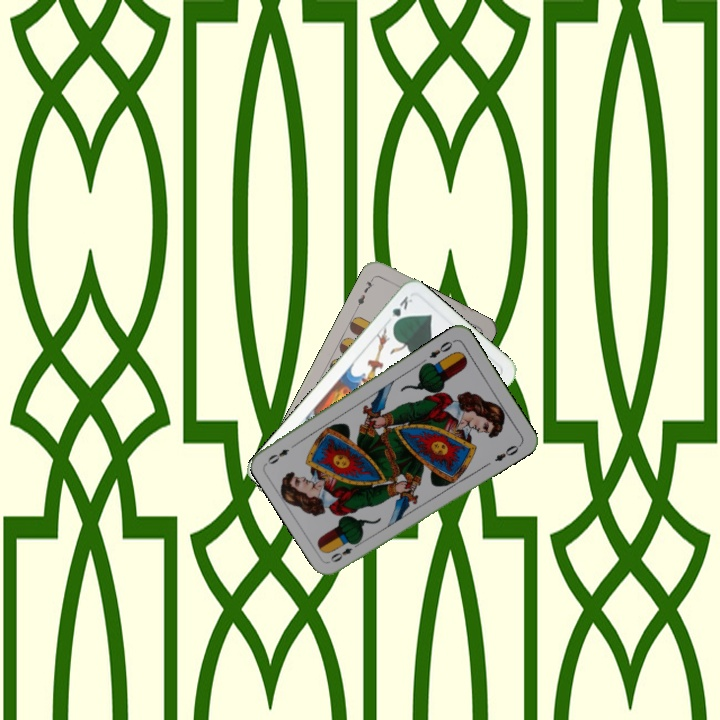E7: (352, 273, 377, 311)
EO: (326, 537, 363, 565), (425, 336, 457, 361)
GK: (382, 292, 415, 329)
